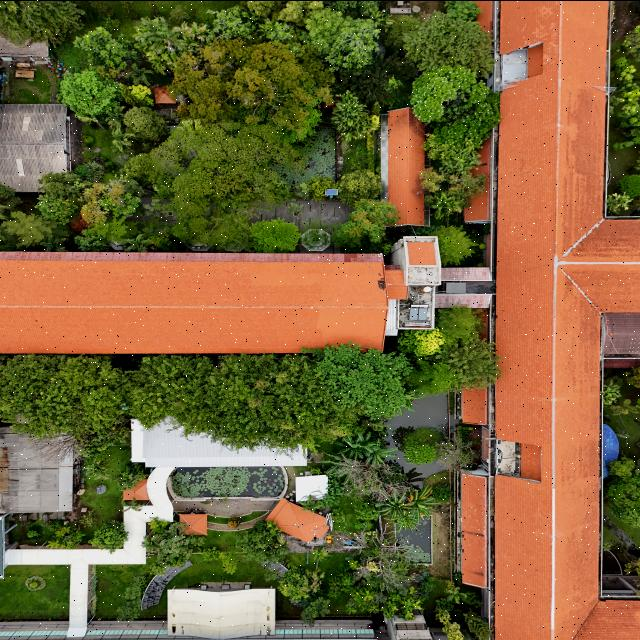Tree: (248, 218, 300, 249), (123, 108, 165, 138), (408, 328, 446, 356), (90, 522, 126, 550), (431, 188, 462, 220), (358, 440, 392, 463), (402, 442, 438, 462), (359, 587, 376, 603), (55, 525, 71, 536), (47, 538, 61, 548), (27, 528, 41, 538)
